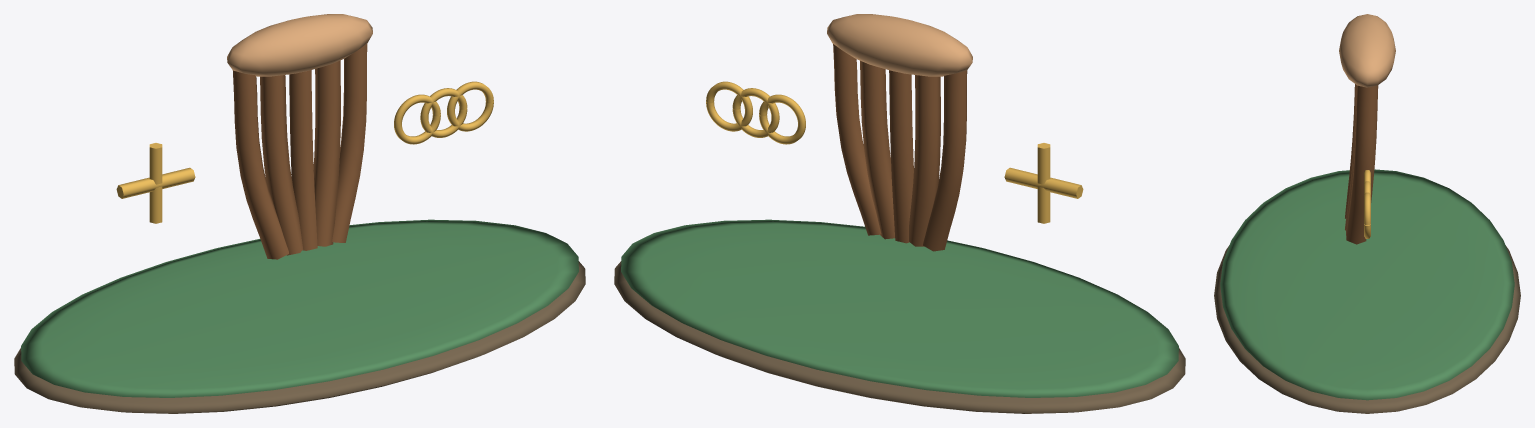
Rendered from complete-second-beard-connector.glb.
3 views of the same model, side by side, from view 1: azimuth 30°, elevation 25°; view 2: azimuth 150°, elevation 25°; view 3: azimuth 270°, elevation 25° (orthographic). The views are drawn at different scales.
Parts seen in each view (by area): view 1: complete-second-beard-connector_surface_01, complete-second-beard-connector_surface_02, complete-second-beard-connector_surface_00, complete-second-beard-connector_surface_03, complete-second-beard-connector_surface_04; view 2: complete-second-beard-connector_surface_01, complete-second-beard-connector_surface_02, complete-second-beard-connector_surface_00, complete-second-beard-connector_surface_03, complete-second-beard-connector_surface_04; view 3: complete-second-beard-connector_surface_01, complete-second-beard-connector_surface_00, complete-second-beard-connector_surface_02, complete-second-beard-connector_surface_03, complete-second-beard-connector_surface_04.
Part boxes in pixels (bbox=[...]): complete-second-beard-connector_surface_01: bbox=[21, 219, 578, 397]; complete-second-beard-connector_surface_02: bbox=[233, 44, 367, 259]; complete-second-beard-connector_surface_00: bbox=[14, 261, 585, 413]; complete-second-beard-connector_surface_03: bbox=[227, 14, 372, 76]; complete-second-beard-connector_surface_04: bbox=[116, 81, 493, 223]; complete-second-beard-connector_surface_01: bbox=[621, 219, 1178, 397]; complete-second-beard-connector_surface_02: bbox=[833, 44, 967, 251]; complete-second-beard-connector_surface_00: bbox=[614, 261, 1185, 413]; complete-second-beard-connector_surface_03: bbox=[827, 14, 972, 76]; complete-second-beard-connector_surface_04: bbox=[706, 81, 1083, 223]; complete-second-beard-connector_surface_01: bbox=[1220, 169, 1514, 400]; complete-second-beard-connector_surface_00: bbox=[1214, 245, 1520, 413]; complete-second-beard-connector_surface_02: bbox=[1345, 84, 1378, 244]; complete-second-beard-connector_surface_03: bbox=[1339, 14, 1395, 87]; complete-second-beard-connector_surface_04: bbox=[1364, 170, 1370, 238].
Bounding box in the file's own units: 4.56 × 2.52 × 2.5.
